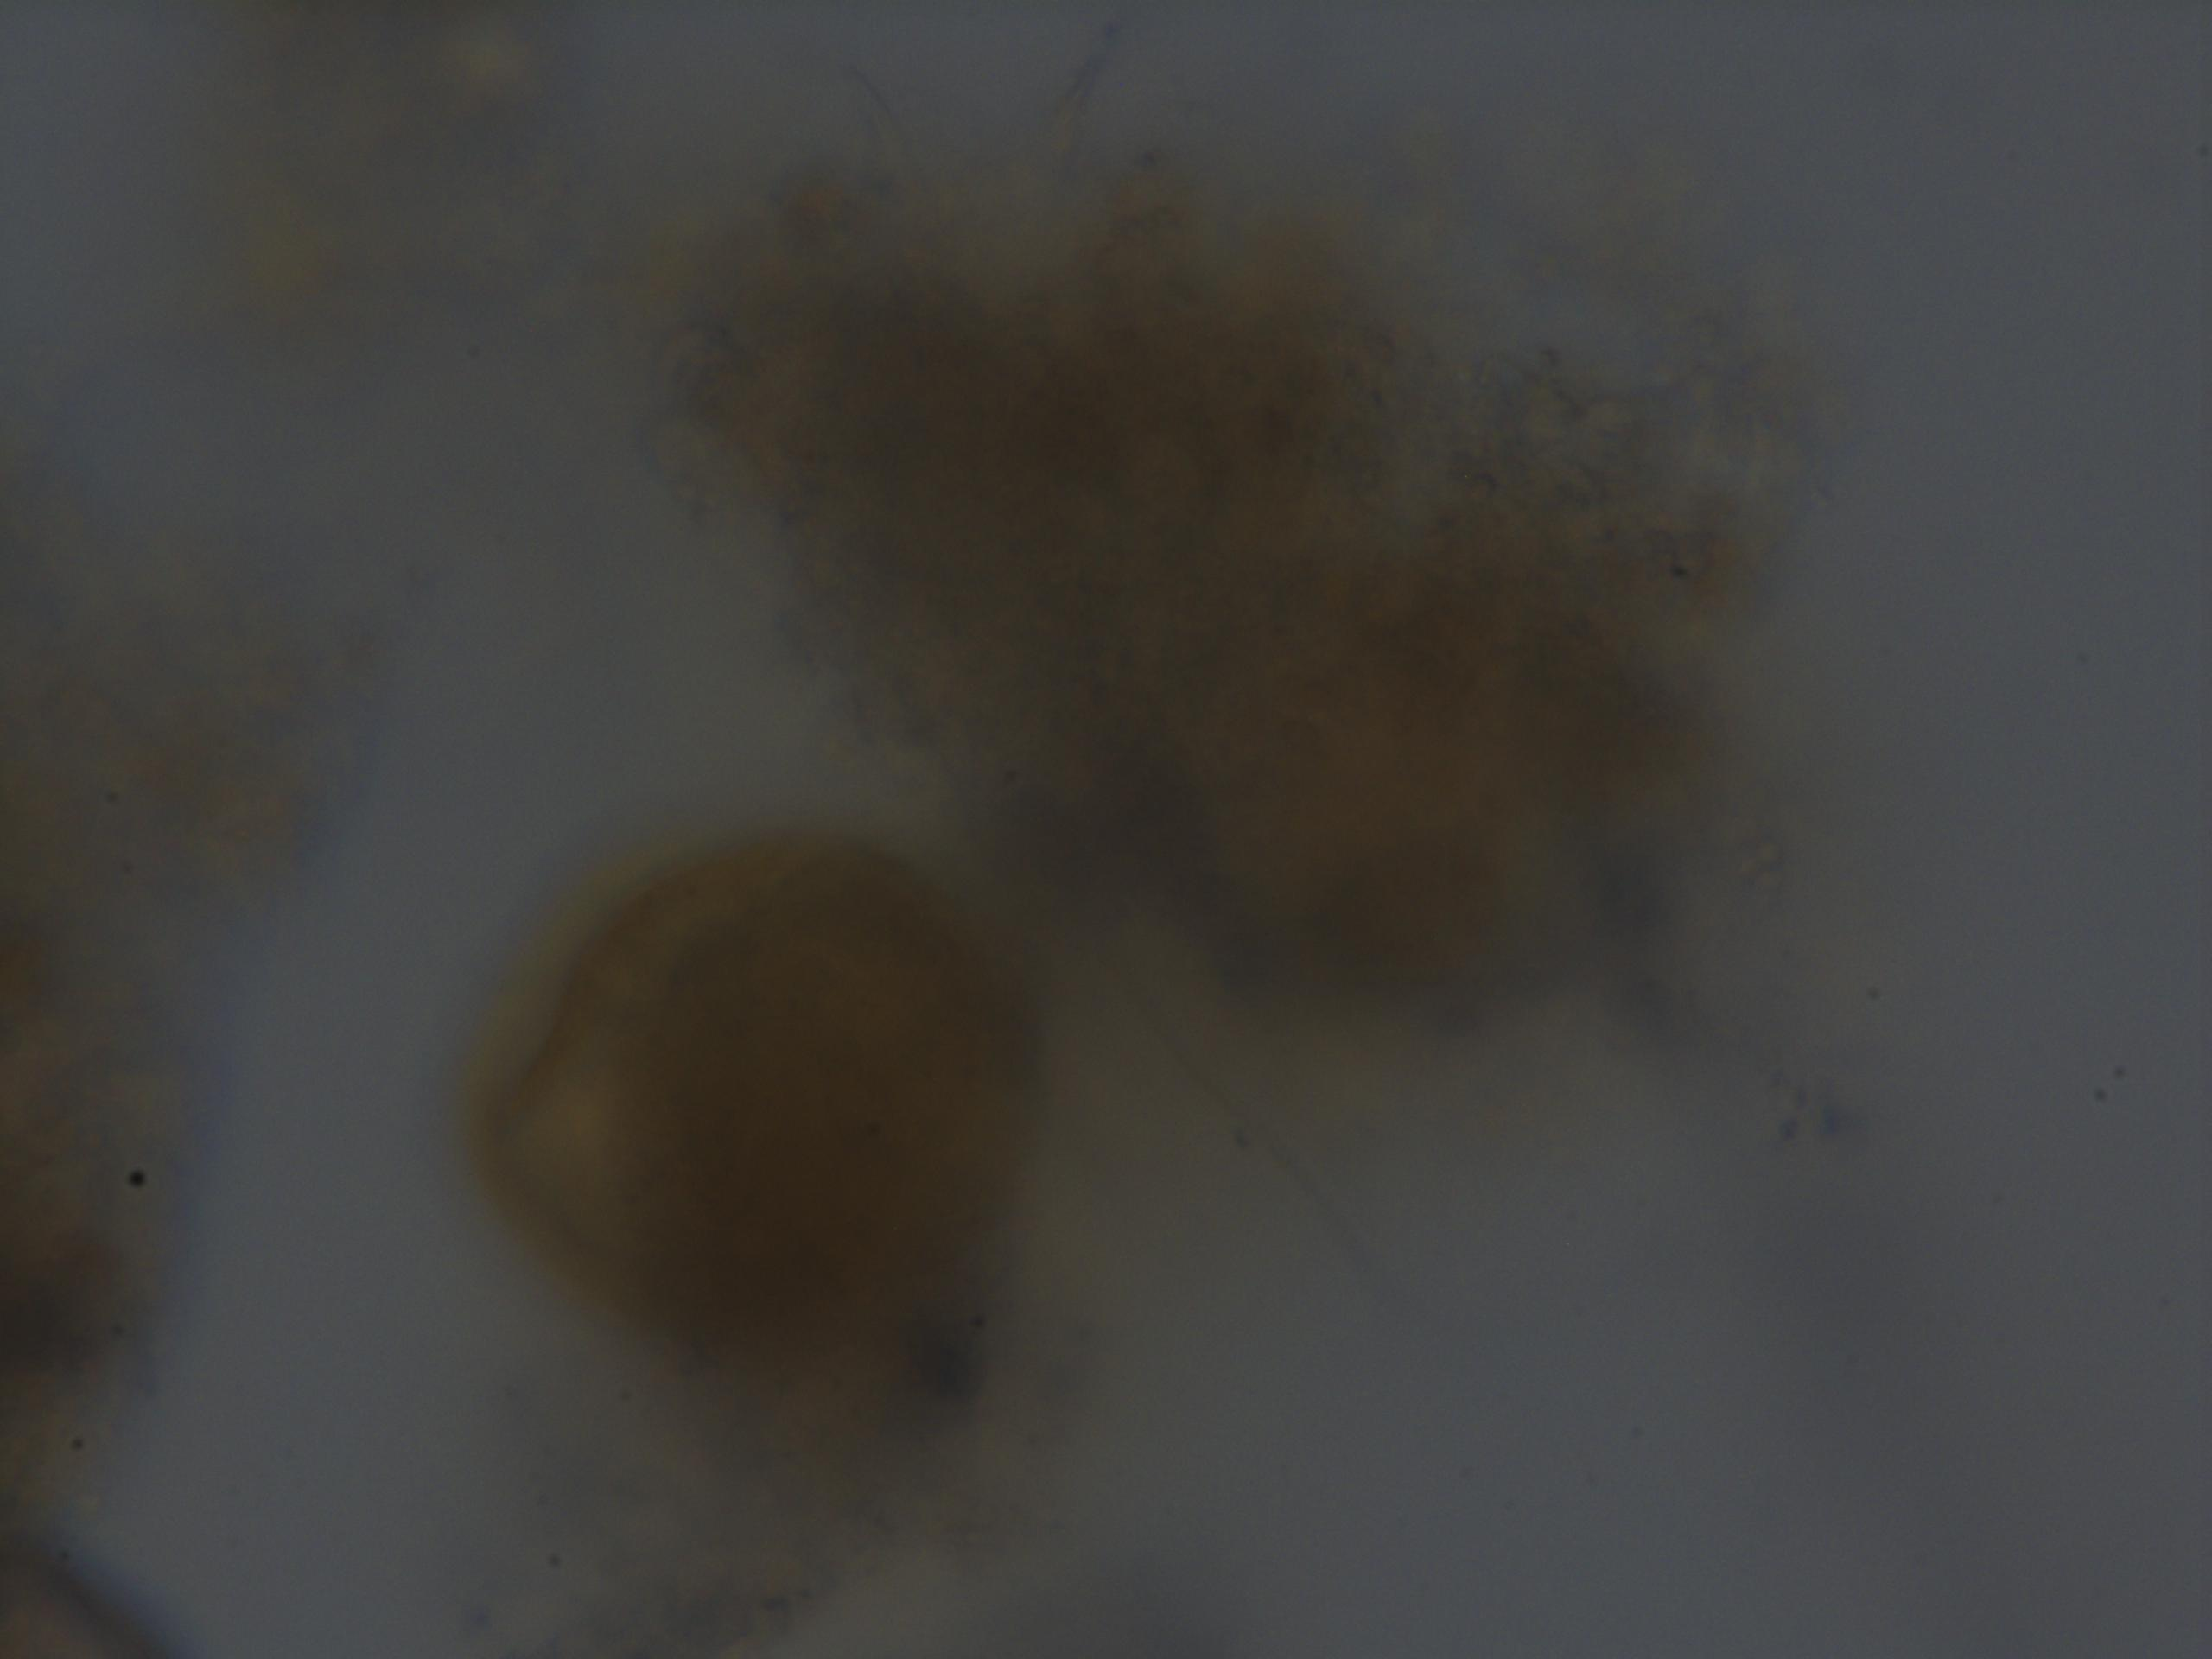spherical_floc: (664, 146, 1791, 1046)
